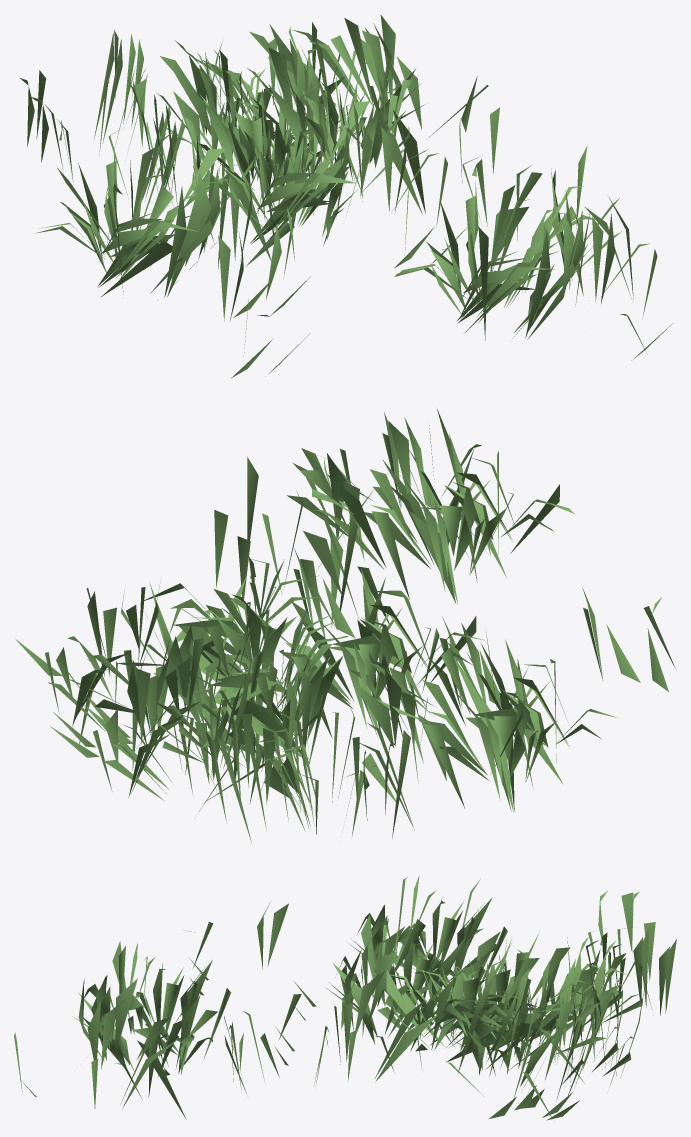
Rendered from grass_2.glb.
The picture shows the model from 3 angles, top to bottom: view 1: azimuth 30°, elevation 25°; view 2: azimuth 150°, elevation 25°; view 3: azimuth 270°, elevation 25°; orthographic projection. The views are drawn at different scales.
Visible parts, largest first — view 1: grass_2; view 2: grass_2; view 3: grass_2.
Boxes of the visible parts, x1,y1,x2,y2 form: grass_2: (20, 15, 672, 378); grass_2: (14, 409, 676, 843); grass_2: (14, 876, 676, 1120).
Bounding box in the file's own units: 0.7076 × 0.2492 × 0.9229.
